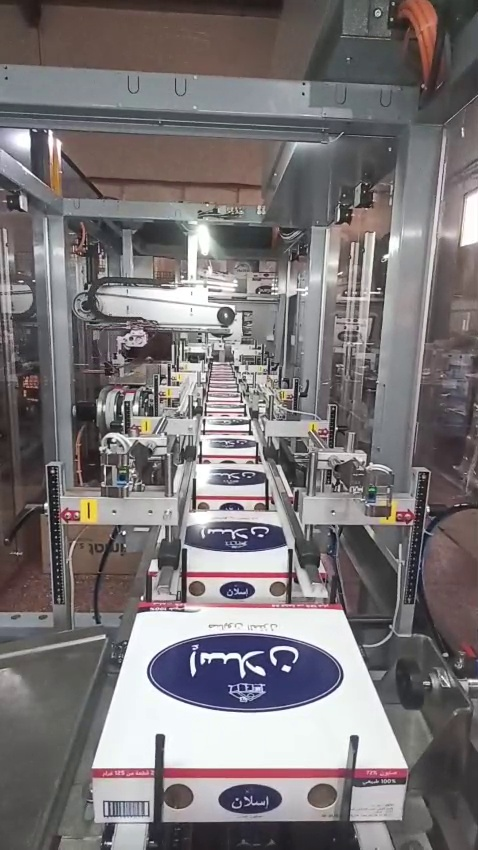savon: (193, 14, 288, 74), (72, 498, 111, 580), (38, 22, 86, 64), (0, 0, 32, 63), (197, 190, 255, 211), (62, 0, 120, 12), (190, 160, 232, 176), (378, 500, 398, 527), (164, 54, 192, 73), (49, 157, 62, 197), (410, 40, 422, 79), (133, 189, 172, 200), (369, 203, 388, 224), (208, 141, 244, 152), (121, 555, 138, 576), (144, 140, 160, 160), (138, 418, 153, 436), (144, 22, 176, 28), (308, 422, 319, 436)
